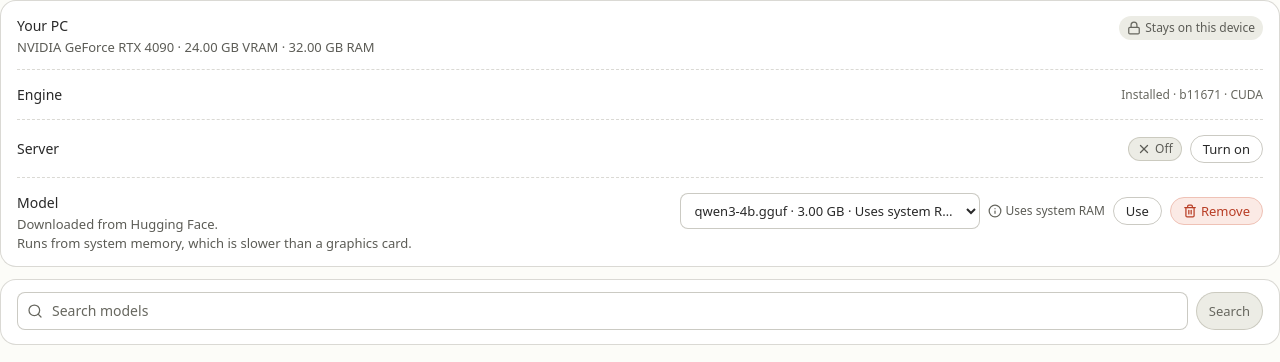
Test: turns the local server on and off
Expected: the dropdown named "Local model" is shown, [680,193,980,229]
Click the button "Turn on". click: (1226, 149)
box: [1190,135,1263,163]
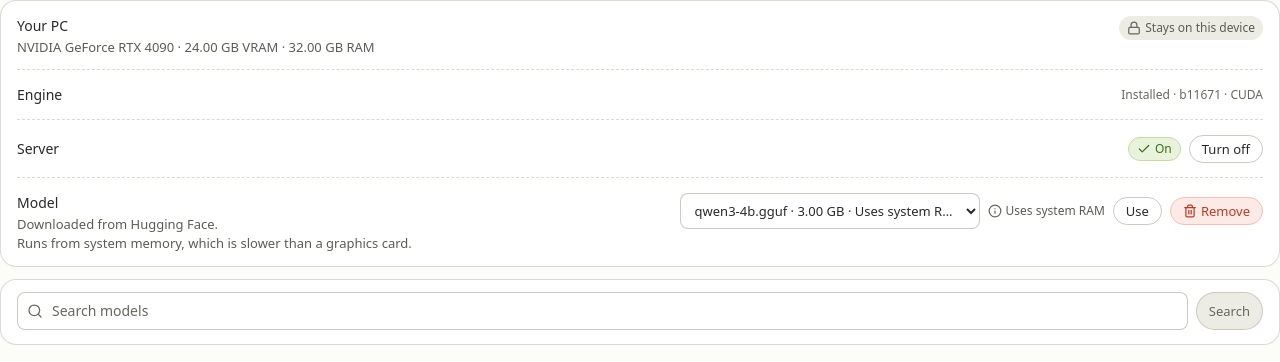
Result: the text "On" is shown at [1128,137,1181,161]
Click the button "Turn off". click: (1226, 149)
box: [1189,135,1263,163]
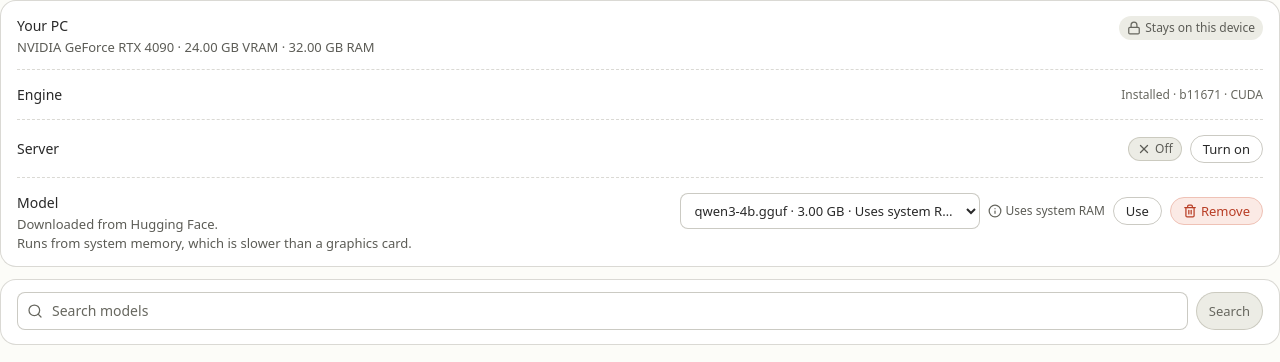
Result: the text "Off" is shown at [1128,137,1182,161]
